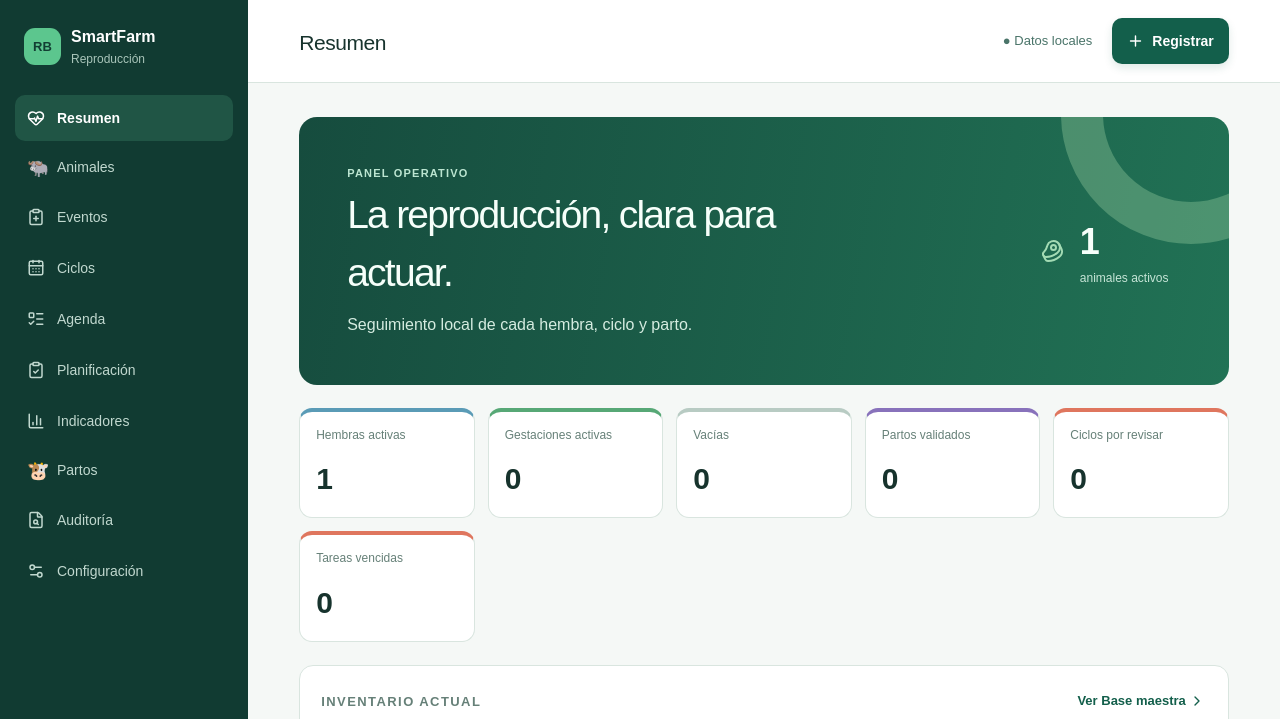
Test: paquete 5: búsqueda e impresión › busca por ID visible, RFID y arete
Click the button "🐃 Animales": (124, 168) 15,146 -> 233,189
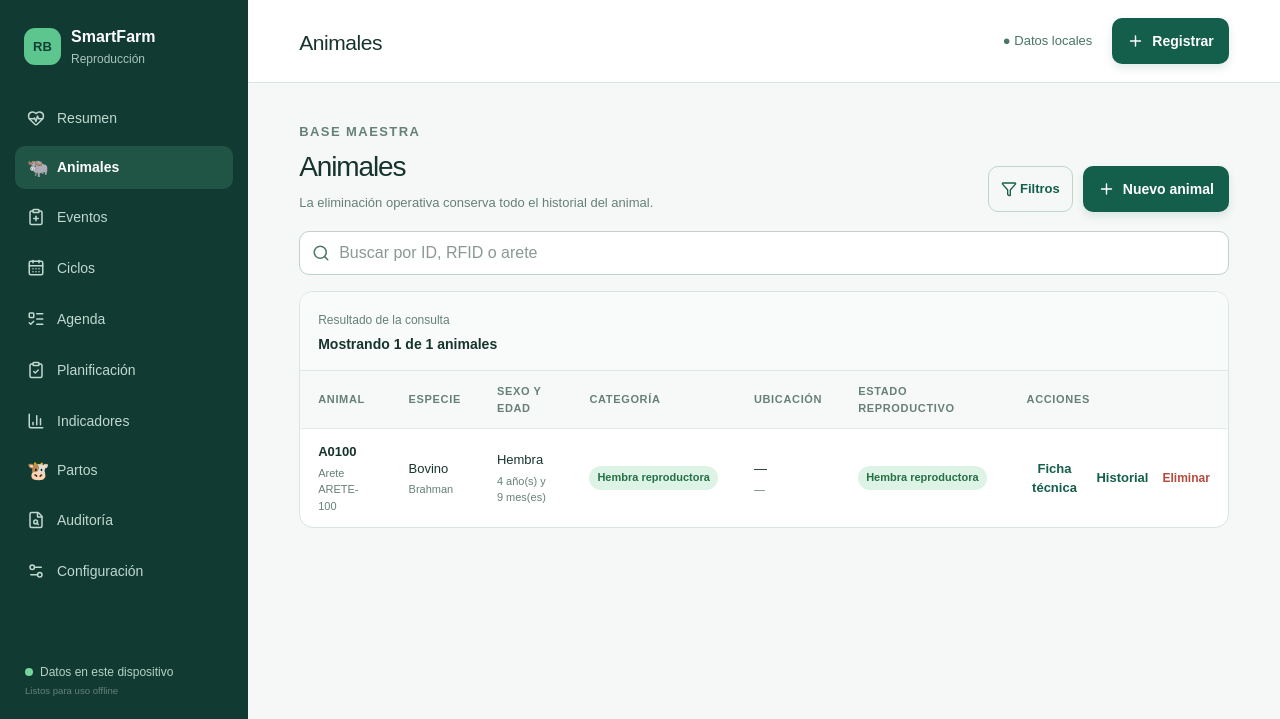
In the field named "Buscar animal por ID, RFID o arete": (778, 253) 339,241 -> 1216,265, type "rfid-100"
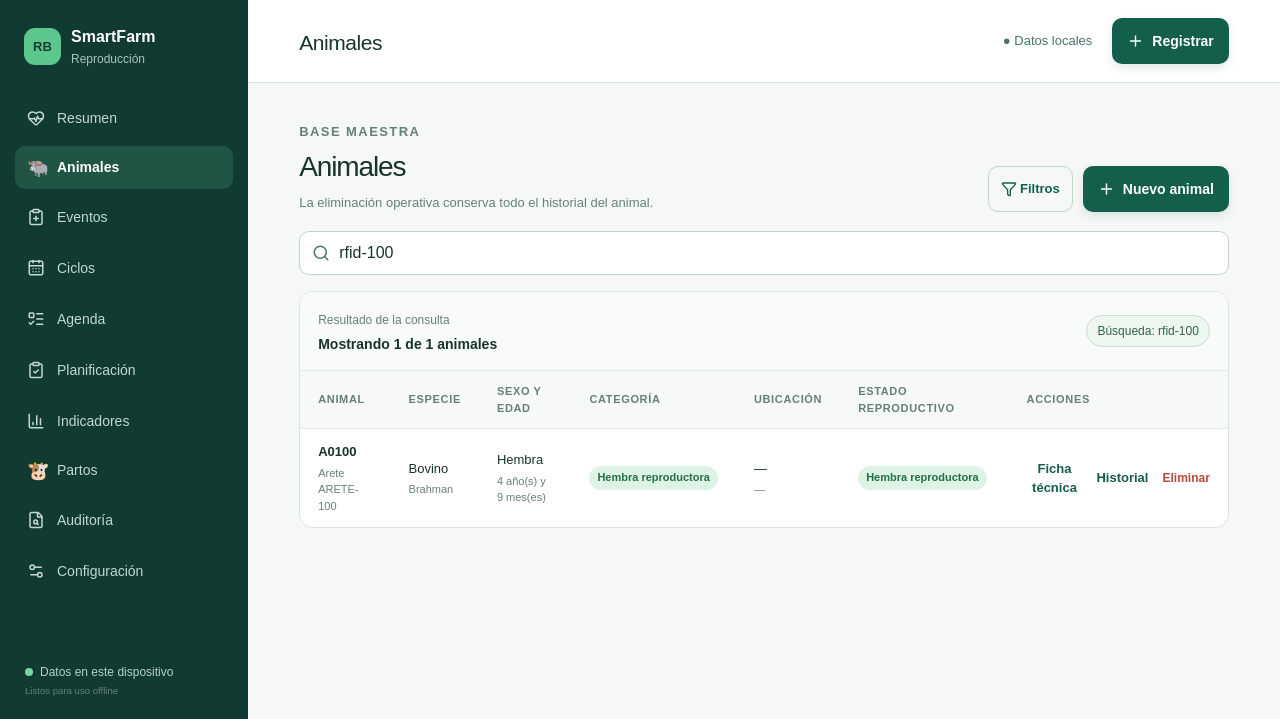
Check: the text "A0100" is shown, box 318,444 -> 356,459
Replace the text in the field named "Buscar animal por ID, RFID o arete" with "ARETE-100": (778, 253) 339,241 -> 1216,265
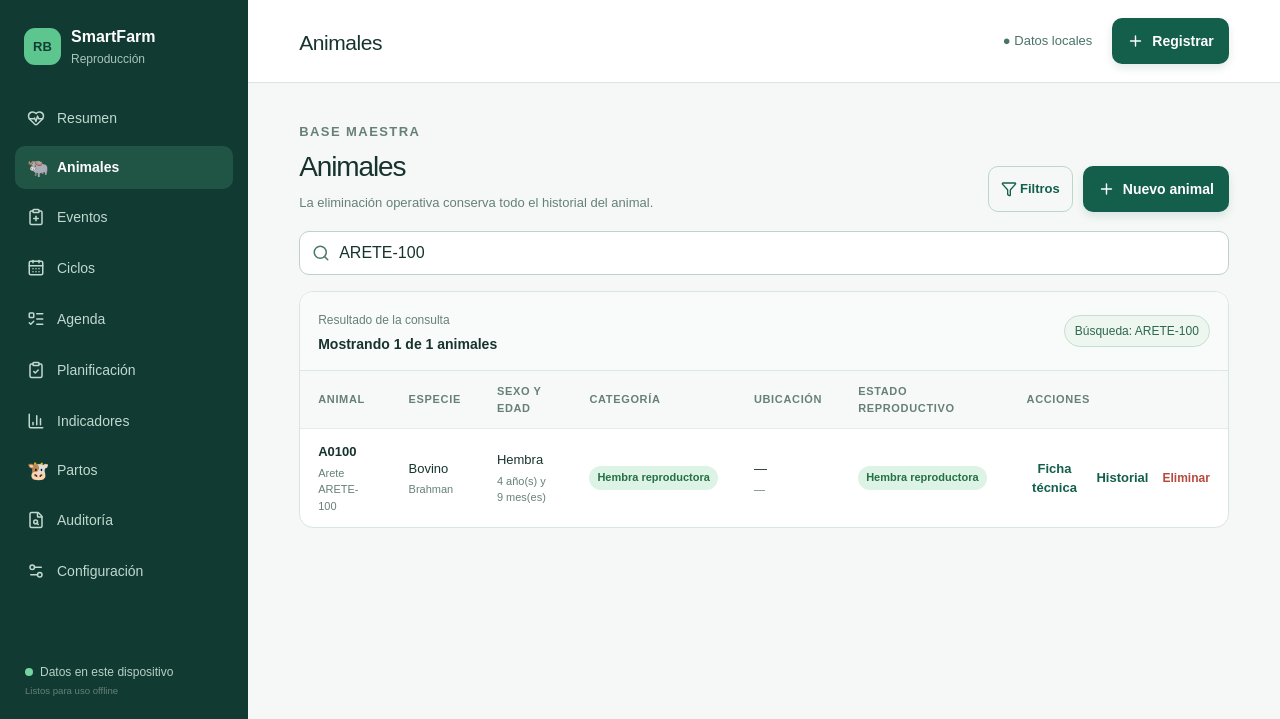
Check: the text "A0100" is shown, box 318,444 -> 356,459
Replace the text in the field named "Buscar animal por ID, RFID o arete" with "sin-coincidencia": (778, 253) 339,241 -> 1216,265
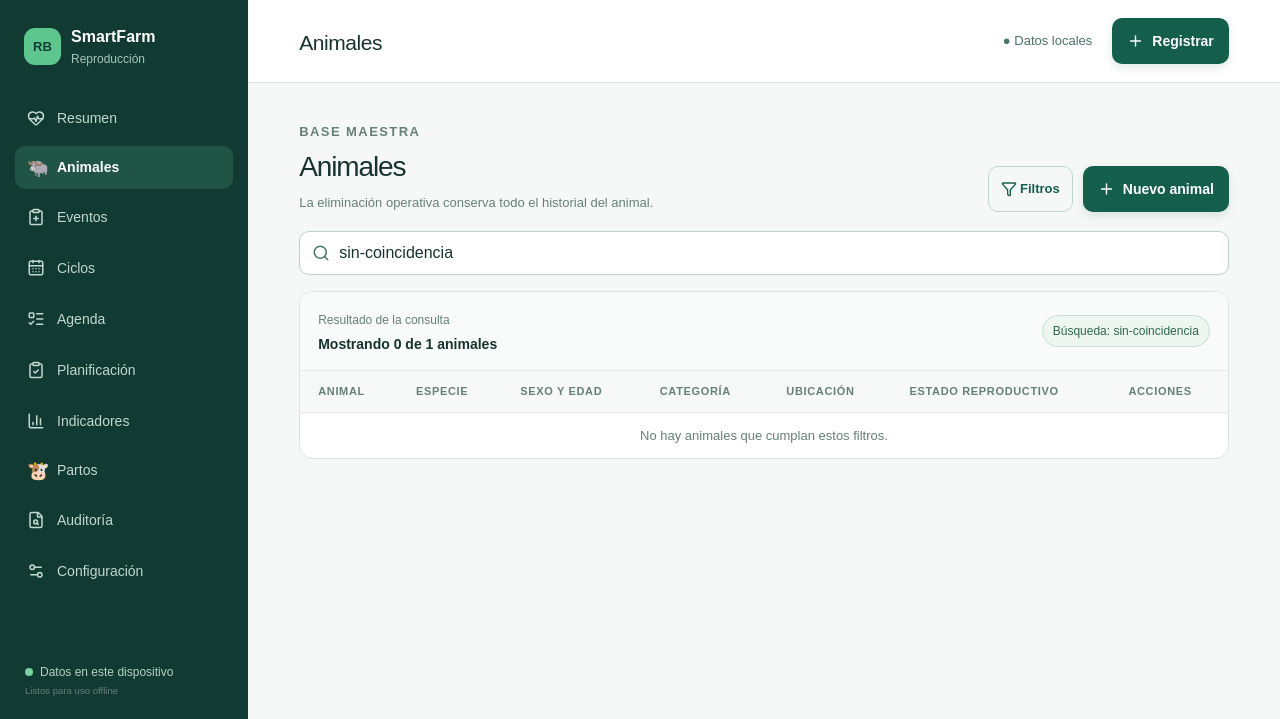
Check: the text "No hay animales que cumplan estos filtros." is shown, box 300,412 -> 1228,458
